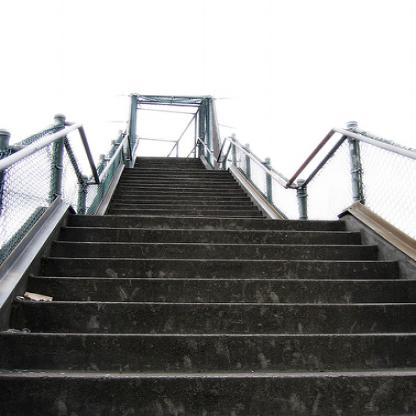stairs: (77, 218, 310, 416)
